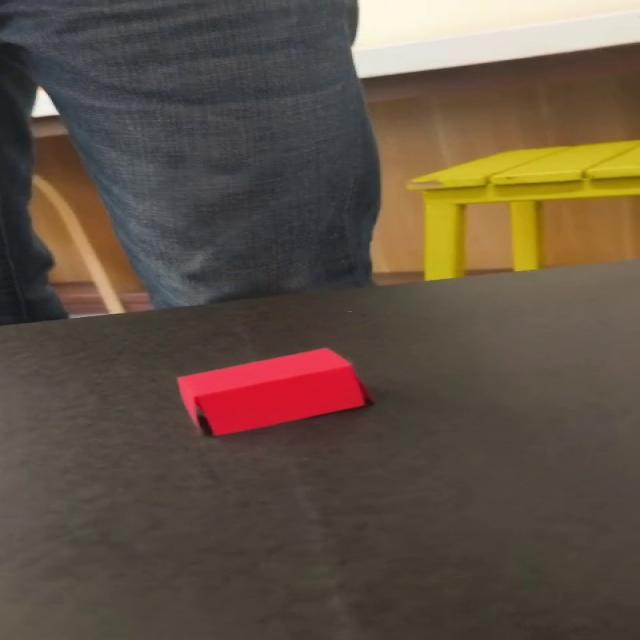red block: (175, 347, 369, 437)
